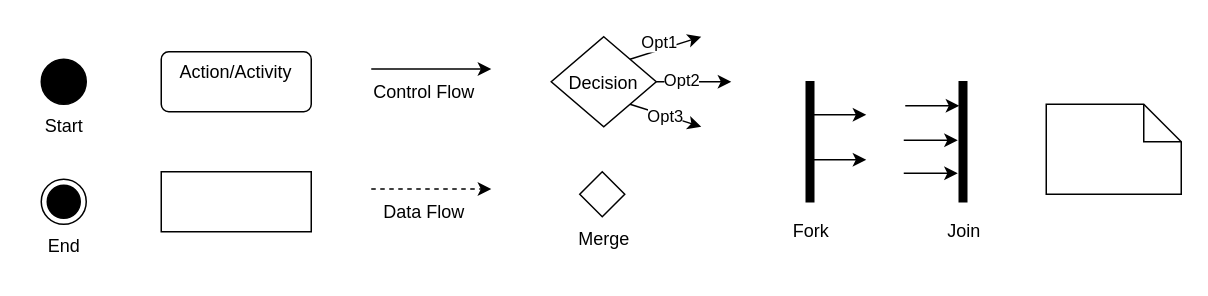
This 1208x296 diagram has some shape labels left out. The shapes that lost their labels are listed below. From the top down, each one's box as (x1, y1, x2, y2) in pixels, then its label:
(1045, 103, 1181, 194): Note
(160, 170, 311, 232): Object
